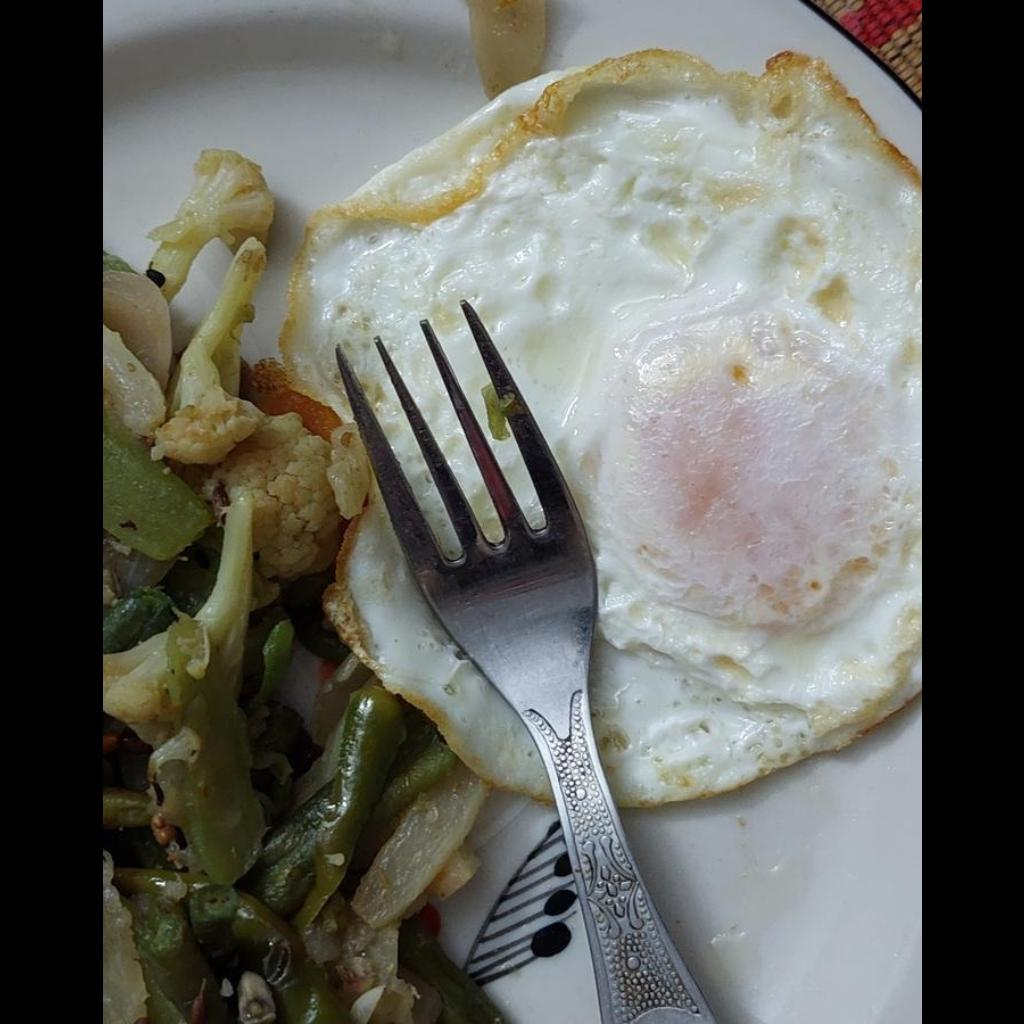egg-poached: (281, 56, 920, 806)
vegetable: (102, 155, 506, 1023)
